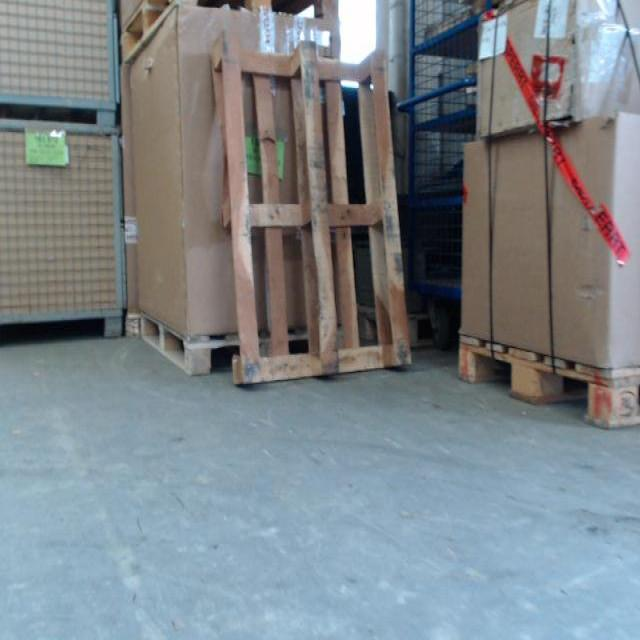pallet: (208, 33, 415, 391), (452, 332, 640, 433), (139, 306, 344, 383), (122, 0, 342, 71), (350, 300, 443, 360)
stillage: (1, 120, 120, 348)
